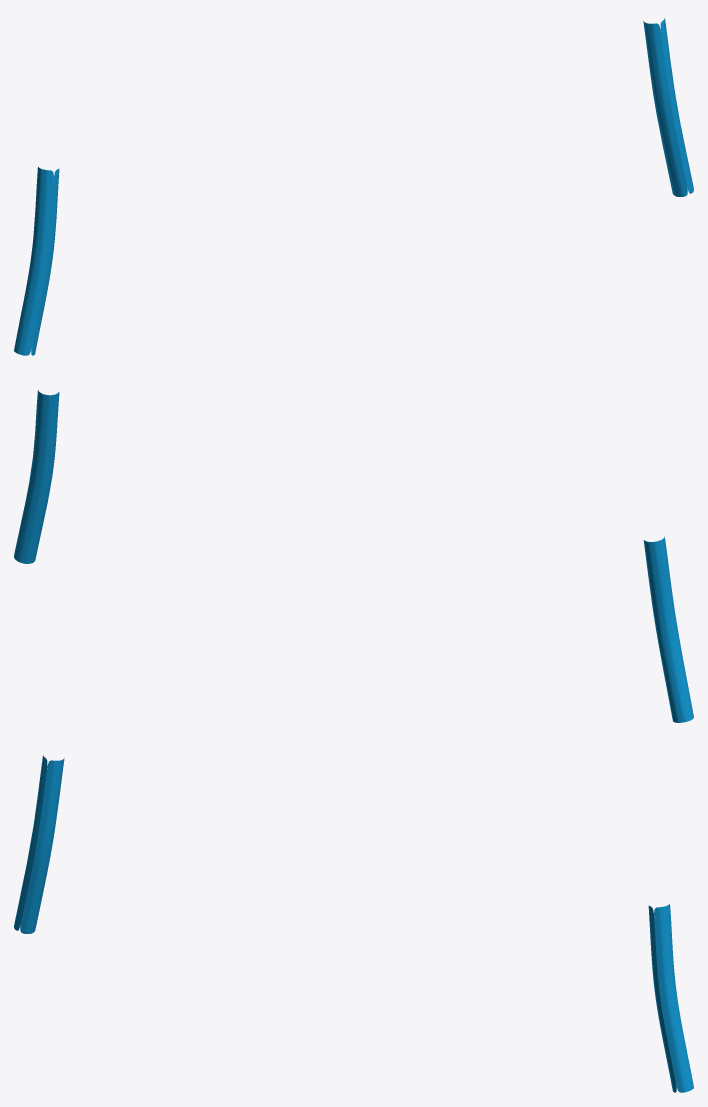
File: b_pillar.glb
The picture shows the model from 3 angles, top to bottom: view 1: azimuth 30°, elevation 25°; view 2: azimuth 150°, elevation 25°; view 3: azimuth 330°, elevation 25°; orthographic projection.
Parts seen in each view (by area): view 1: B_Pillar_Upright_LH, B_Pillar_Upright_RH; view 2: B_Pillar_Upright_LH, B_Pillar_Upright_RH; view 3: B_Pillar_Upright_RH, B_Pillar_Upright_LH.
Part boxes in pixels (x1,y1,x2,y2): B_Pillar_Upright_LH: (14, 167, 59, 355); B_Pillar_Upright_RH: (643, 18, 693, 196); B_Pillar_Upright_LH: (643, 537, 693, 722); B_Pillar_Upright_RH: (14, 390, 59, 563); B_Pillar_Upright_RH: (648, 904, 693, 1092); B_Pillar_Upright_LH: (14, 755, 64, 933).
Bounding box in the file's own units: 1.52 × 0.3867 × 0.054.
